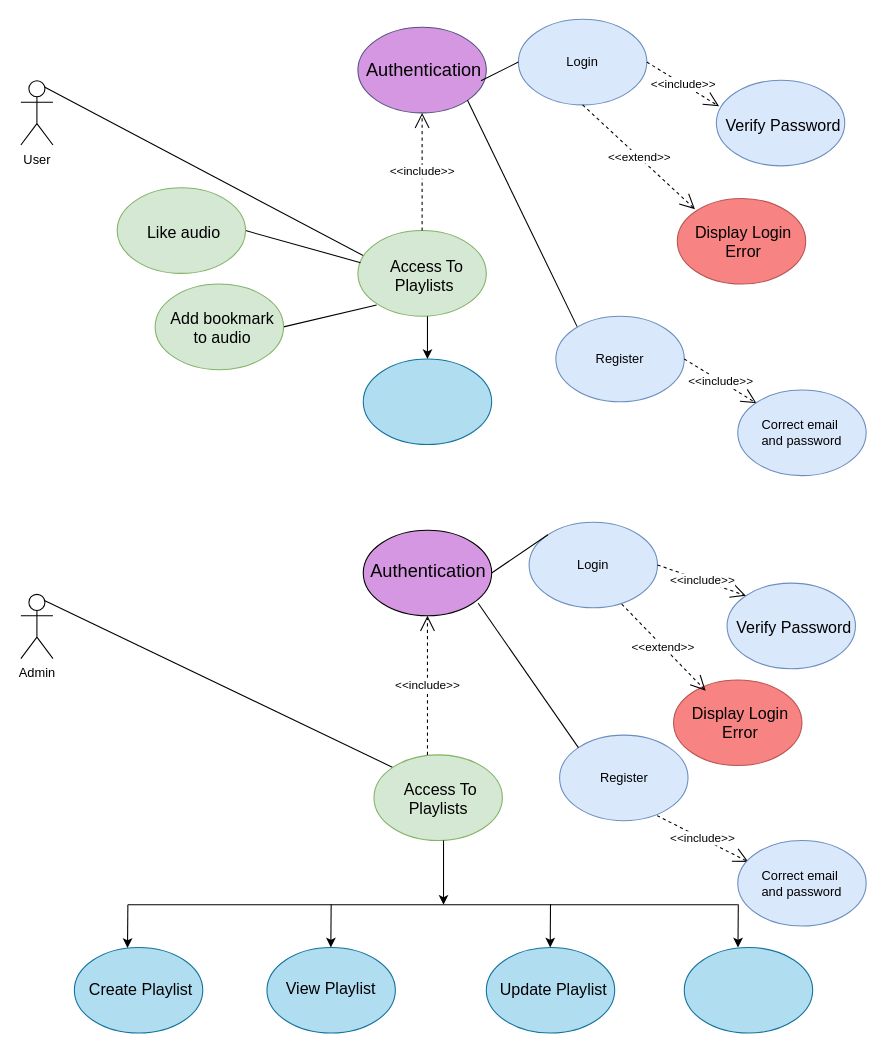
Image size: 885x1052. Some labels were removed from this diagram. The shapes that lost their labels are listed below. From the top down, each one's box as (x1, y1, x2, y2) in pixels, then its label:
(362, 358, 492, 445): Listen audio
(683, 946, 813, 1033): Delete Playlist
